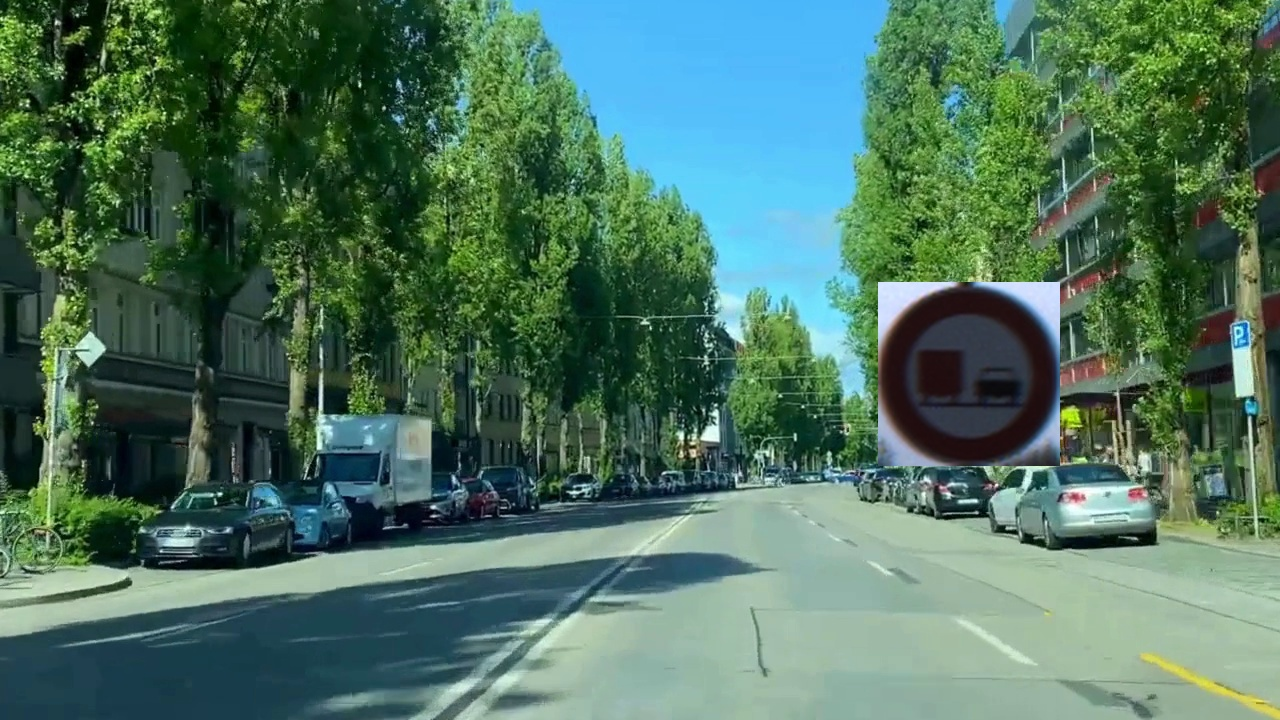No pass >3.5t: (878, 282, 1060, 466)
